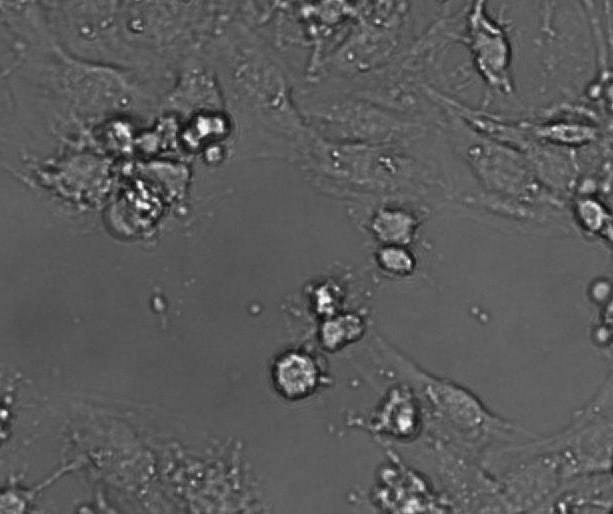Dead: (266, 347, 321, 402), (376, 466, 437, 514), (376, 384, 424, 440), (121, 175, 166, 227), (183, 107, 234, 148), (569, 194, 611, 240), (99, 116, 142, 154), (303, 280, 344, 314), (375, 244, 418, 276), (339, 314, 369, 344), (316, 320, 345, 351)
